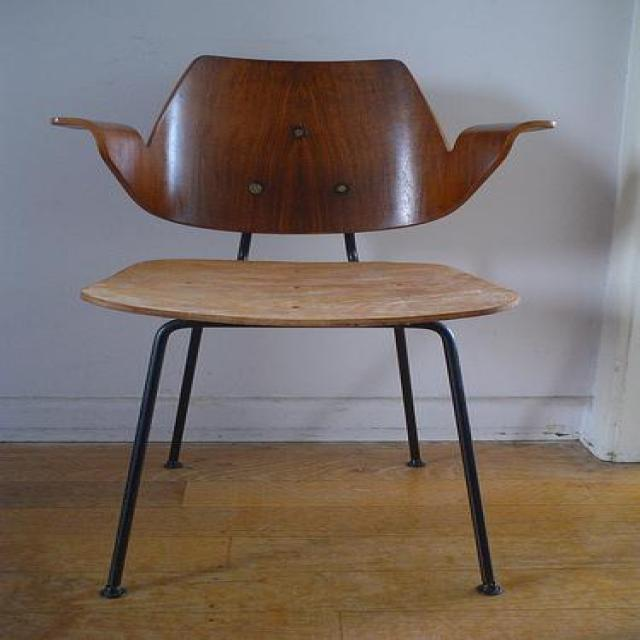chair: (49, 53, 556, 599)
